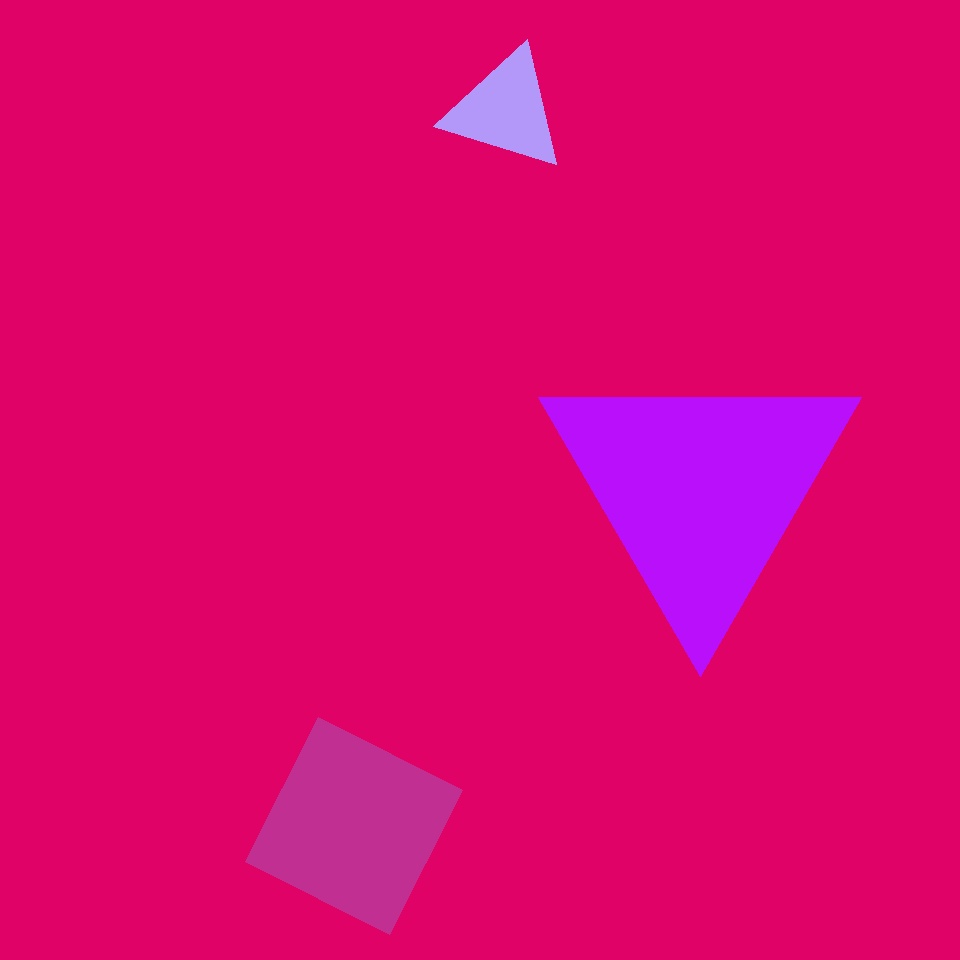circle: (538, 350, 862, 630), (444, 47, 568, 172), (300, 316, 411, 437)
square: (372, 539, 684, 852), (297, 180, 594, 477), (246, 718, 463, 935), (325, 464, 466, 604), (671, 708, 796, 832)
triangle: (613, 145, 869, 400)
